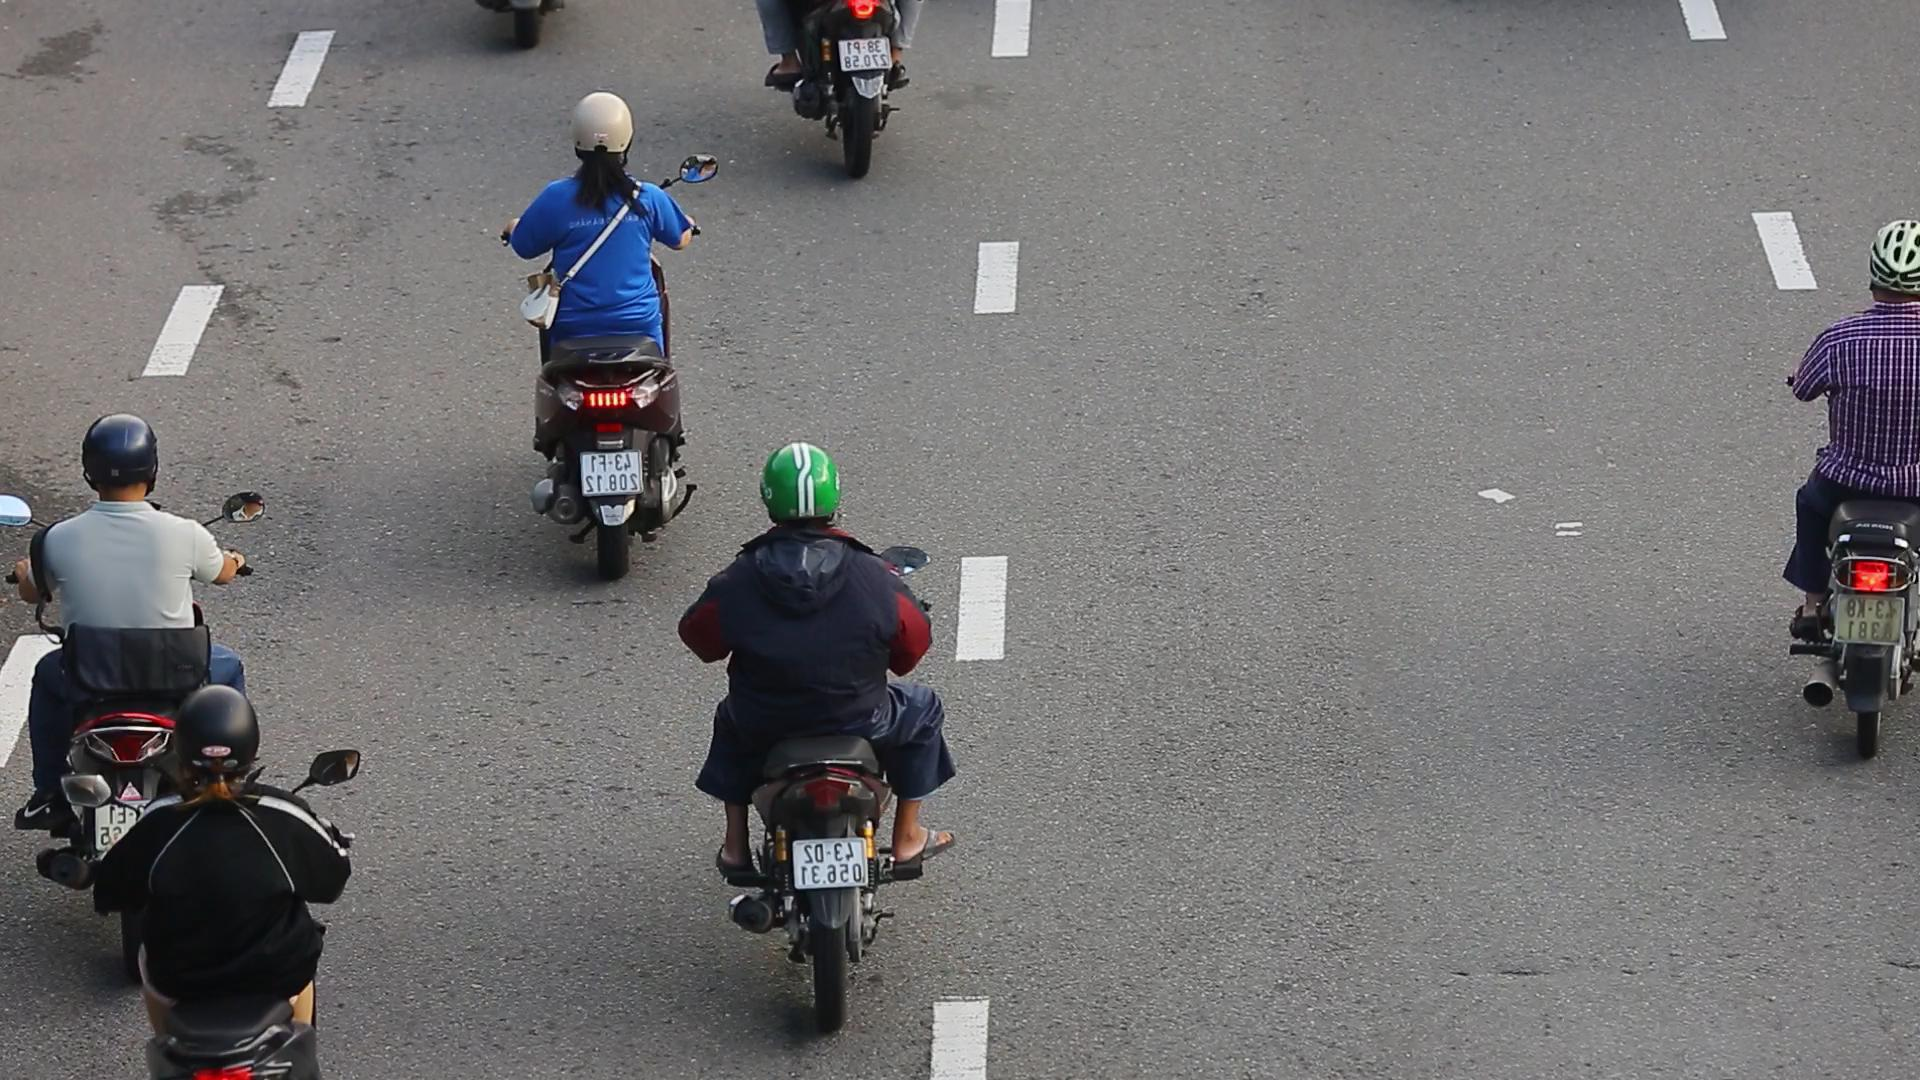motobike: (674, 429, 957, 1034), (496, 82, 728, 572)
